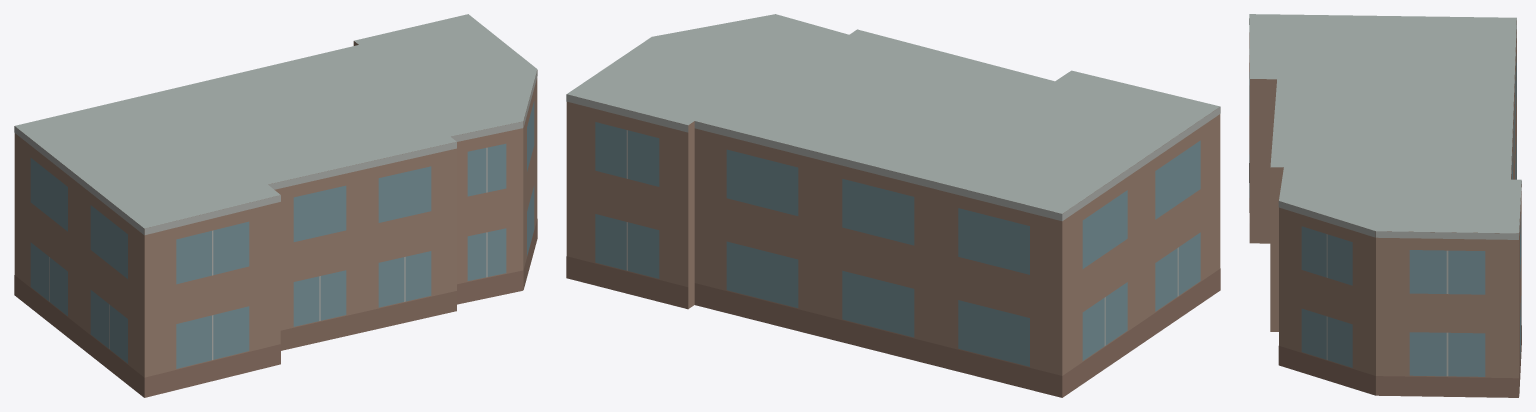
The model's file is survey-upis-32658879.glb.
3 renders of one model, left to right at view 1: azimuth 30°, elevation 25°; view 2: azimuth 150°, elevation 25°; view 3: azimuth 270°, elevation 25°, orthographic. The views are drawn at different scales.
Visible parts, largest first — view 1: survey-upis-32658879.tmp; view 2: survey-upis-32658879.tmp; view 3: survey-upis-32658879.tmp.
Boxes of the visible parts, x1=… form: survey-upis-32658879.tmp: x1=14, y1=14, x2=537, y2=397; survey-upis-32658879.tmp: x1=566, y1=14, x2=1220, y2=397; survey-upis-32658879.tmp: x1=1249, y1=14, x2=1521, y2=397.
Size of the model in its own units: 17.46 by 6.1 by 9.17.
